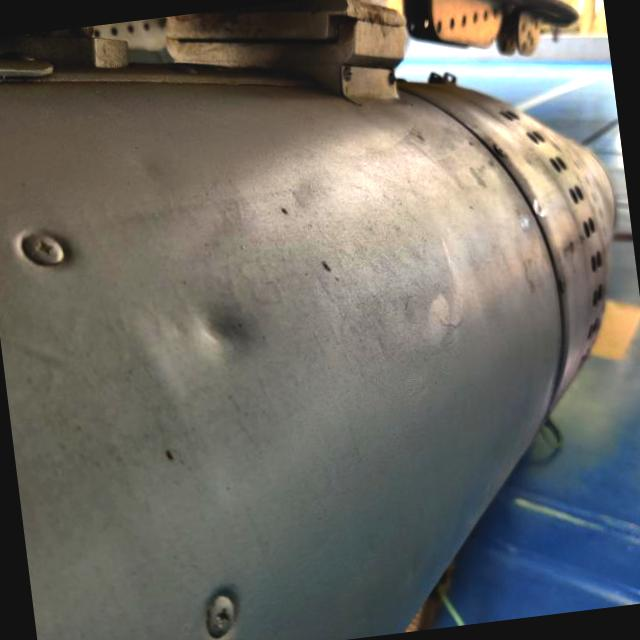dent: (162, 267, 294, 394)
